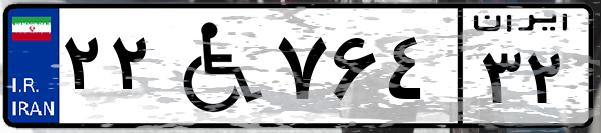2: (57, 26, 110, 100), (525, 38, 570, 115), (110, 28, 158, 98)
3: (475, 38, 525, 113)
4: (385, 28, 445, 110)
6: (330, 28, 385, 110)
7: (270, 28, 330, 110)
ژ (معلولین و جانبازان): (158, 12, 270, 120)
